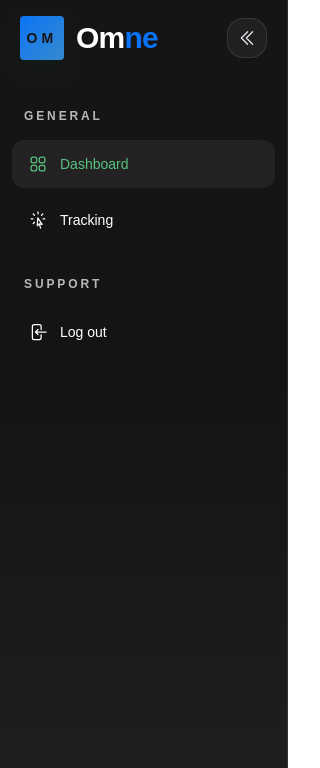
SideNav › collapses to an icon rail while keeping accessible names
Click the button named "collapse sidebar" at coordinates (247, 38), box [227, 18, 267, 58]
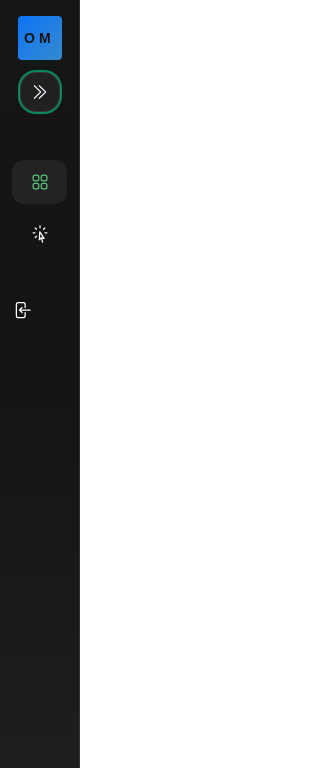
Check: the button named "expand sidebar" is shown, box [20, 72, 60, 112]
Check: the text "Dashboard" is gone
Check: the text "General" is gone
